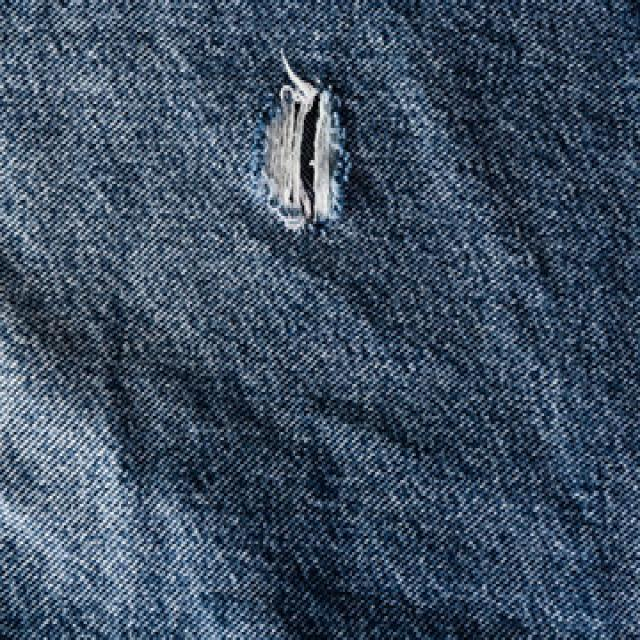Hole: (252, 76, 350, 230)
